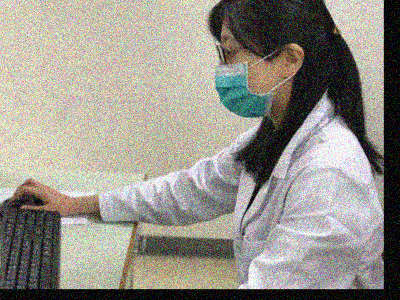with_mask: (214, 31, 280, 117)
